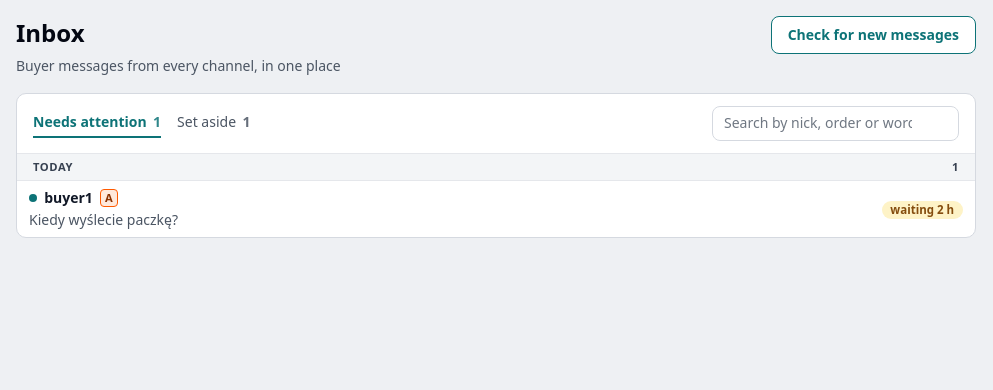
the open conversation › narrows the list beside it, and gives the list its width back when closed
The width and height of the screenshot is (993, 390).
Click the button "buyer1 A Kiedy wyślecie paczkę? waiting 2 h": (69, 197) [17, 180, 975, 237]
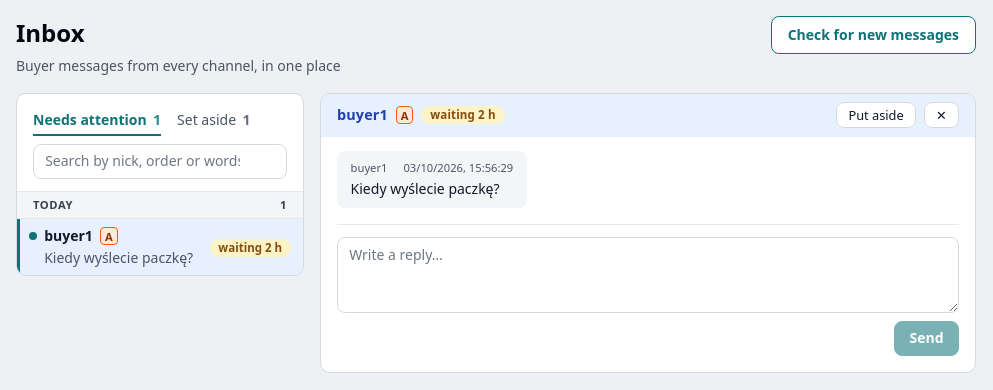
Expected: the element named "Conversation" is shown, [320, 93, 976, 373]
Click the button named "Close the conversation": (941, 115) [924, 102, 959, 128]
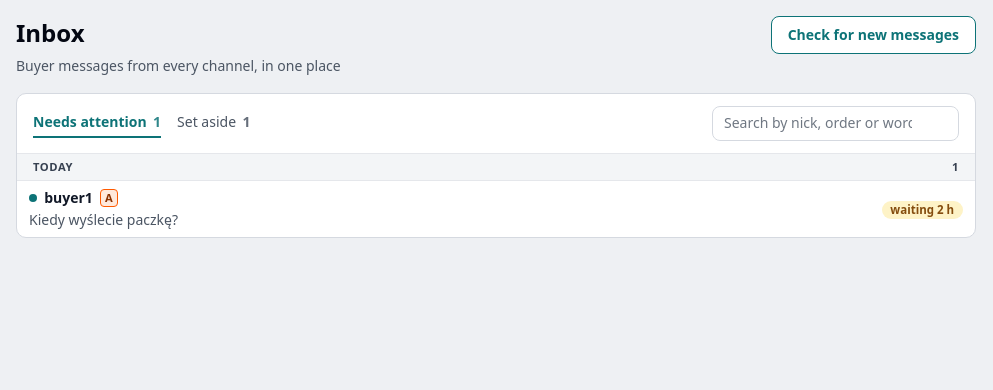
Expected: the button "Conversation" is gone
